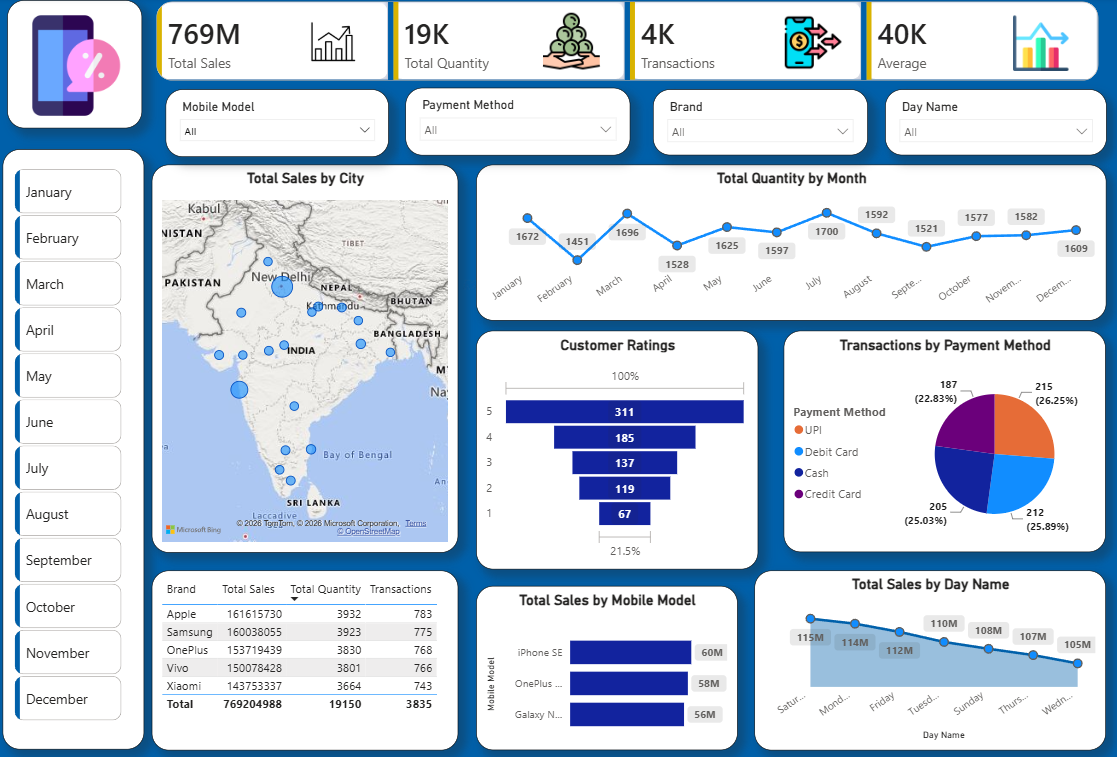

Layout of this report page (visuals, bound fields, positions):
{"tool":"powerbi","page":{"name":"Page 1","canvas":[1312,890],"ordinal":0},"visuals":[{"type":"shape","box":[10.1,4.1,158,149.9],"z":0},{"type":"image","box":[537,224.4,144.5,128.6],"z":1000},{"type":"shape","box":[6.1,178.3,166.1,703.1],"z":2000},{"type":"advancedSlicerVisual","fields":{"Values":["Sales Data.Date.Variation.Date Hierarchy.Month"]},"box":[14.2,196.5,135.8,666.6],"z":3000},{"type":"cardVisual","fields":{"Data":["Sales Data.Total Sales","Sales Data.Total Quantity","Sales Data.Transactions","Sales Data.Average"]},"box":[180.5,0,1117.6,103.4],"z":4000},{"type":"image","box":[352.9,20.3,79,64.8],"z":5000},{"type":"image","box":[1184.6,22.3,72.9,64.8],"z":6000},{"type":"image","box":[920.9,20.3,68.9,66.9],"z":7000},{"type":"image","box":[630.8,16.2,83.1,70.9],"z":8000},{"type":"map","fields":{"Category":["Sales Data.City"],"Size":["Sales Data.Total Sales"]},"box":[180.5,196.8,359,454.4],"z":9000},{"type":"lineChart","fields":{"Category":["Sales Data.Date.Variation.Date Hierarchy.Month","Sales Data.Date.Variation.Date Hierarchy.Day"],"Y":["Sales Data.Total Quantity"]},"box":[559.8,196.8,738.3,182.6],"z":10000},{"type":"clusteredBarChart","fields":{"Category":["Sales Data.Mobile Model"],"Y":["Sales Data.Total Sales"]},"box":[559.8,689.6,306.3,192.7],"z":11000},{"type":"pieChart","fields":{"Category":["Sales Data.Payment Method"],"Y":["Sales Data.Transactions"]},"box":[920.9,391.5,377.3,259.6],"z":12000},{"type":"funnel","title":" Customer Ratings","fields":{"Category":["Sales Data.Customer Ratings"],"Y":["CountNonNull(Sales Data.Customer Ratings)"]},"box":[559.8,391.5,330.6,279.9],"z":13000},{"type":"areaChart","fields":{"Category":["Sales Data.Day Name"],"Y":["Sales Data.Total Sales"]},"box":[886.4,671.4,411.8,210.9],"z":14000},{"type":"tableEx","fields":{"Values":["Sales Data.Brand","Sales Data.Total Sales","Sales Data.Total Quantity","Sales Data.Transactions"]},"box":[180.5,671.4,359,210.9],"z":15000},{"type":"slicer","fields":{"Values":["Sales Data.Mobile Model"]},"box":[196.8,107.5,261.7,79.1],"z":15001},{"type":"slicer","fields":{"Values":["Sales Data.Payment Method"]},"box":[476.7,105.5,263.7,79.1],"z":15002},{"type":"slicer","fields":{"Values":["Sales Data.Brand"]},"box":[766.7,107.5,251.5,77.1],"z":15003},{"type":"slicer","fields":{"Values":["Sales Data.Day Name"]},"box":[1038.5,107.5,259.6,77.1],"z":15004},{"type":"image","box":[32.1,16,118.2,128.2],"z":15005}]}

Visuals, with their boxes in screenshot pixels (x1, y1, x2, y2), scaled from the page's 1312x890 canvas onto the 1117x757 screenshot:
shape: (left=9, top=3, right=143, bottom=131)
image: (left=457, top=191, right=580, bottom=300)
shape: (left=5, top=152, right=147, bottom=750)
advancedSlicerVisual - Sales Data.Date.Variation.Date Hierarchy.Month: (left=12, top=167, right=128, bottom=734)
cardVisual - Sales Data.Total Sales x Sales Data.Total Quantity: (left=154, top=0, right=1105, bottom=88)
image: (left=300, top=17, right=368, bottom=72)
image: (left=1009, top=19, right=1071, bottom=74)
image: (left=784, top=17, right=843, bottom=74)
image: (left=537, top=14, right=608, bottom=74)
map - Sales Data.City x Sales Data.Total Sales: (left=154, top=167, right=459, bottom=554)
lineChart - Sales Data.Date.Variation.Date Hierarchy.Month x Sales Data.Date.Variation.Date Hierarchy.Day: (left=477, top=167, right=1105, bottom=323)
clusteredBarChart - Sales Data.Mobile Model x Sales Data.Total Sales: (left=477, top=587, right=737, bottom=750)
pieChart - Sales Data.Payment Method x Sales Data.Transactions: (left=784, top=333, right=1105, bottom=554)
" Customer Ratings" funnel: (left=477, top=333, right=758, bottom=571)
areaChart - Sales Data.Day Name x Sales Data.Total Sales: (left=755, top=571, right=1105, bottom=750)
tableEx - Sales Data.Brand x Sales Data.Total Sales: (left=154, top=571, right=459, bottom=750)
slicer - Sales Data.Mobile Model: (left=168, top=91, right=390, bottom=159)
slicer - Sales Data.Payment Method: (left=406, top=90, right=630, bottom=157)
slicer - Sales Data.Brand: (left=653, top=91, right=867, bottom=157)
slicer - Sales Data.Day Name: (left=884, top=91, right=1105, bottom=157)
image: (left=27, top=14, right=128, bottom=123)
